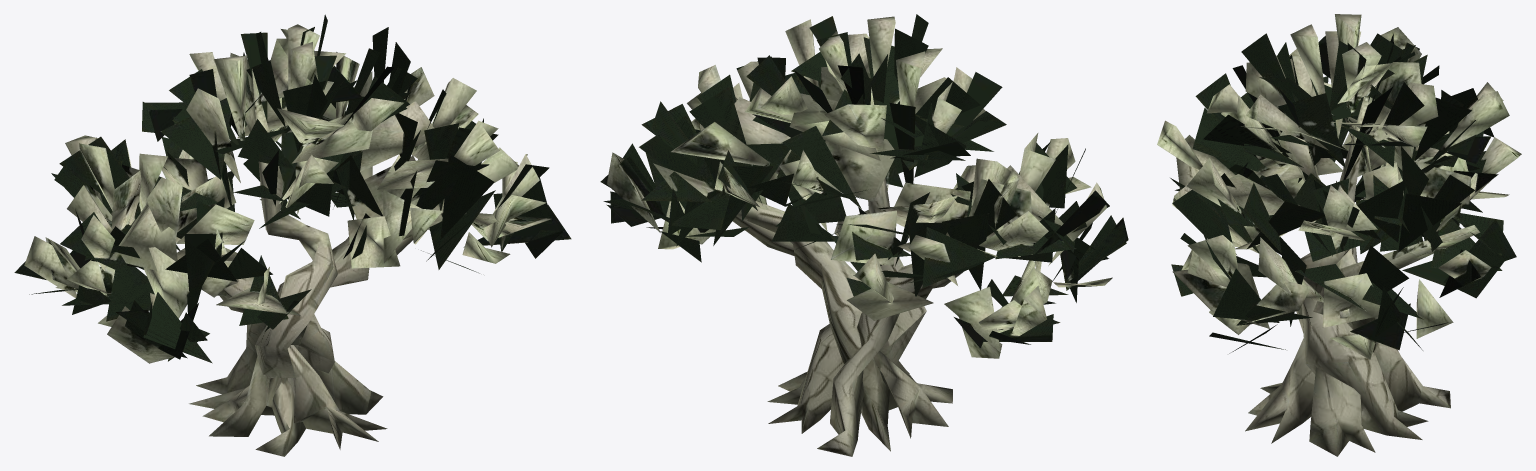
The model's file is olive-tree.glb.
3 renders of one model, left to right at view 1: azimuth 30°, elevation 25°; view 2: azimuth 150°, elevation 25°; view 3: azimuth 270°, elevation 25°, orthographic.
Parts seen in each view (by area): view 1: mesh_node; view 2: mesh_node; view 3: mesh_node.
Boxes of the visible parts, <box> form: mesh_node: <box>14,14,571,456</box>; mesh_node: <box>600,14,1128,456</box>; mesh_node: <box>1157,14,1521,456</box>.
Size of the model in its own units: 6.15 by 5 by 4.33.
1 material, 1 textured.
